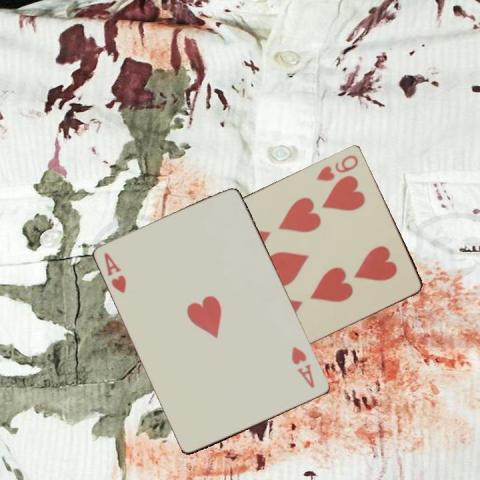9h: (313, 151, 360, 183)
Ah: (288, 343, 316, 391), (101, 249, 128, 295)
